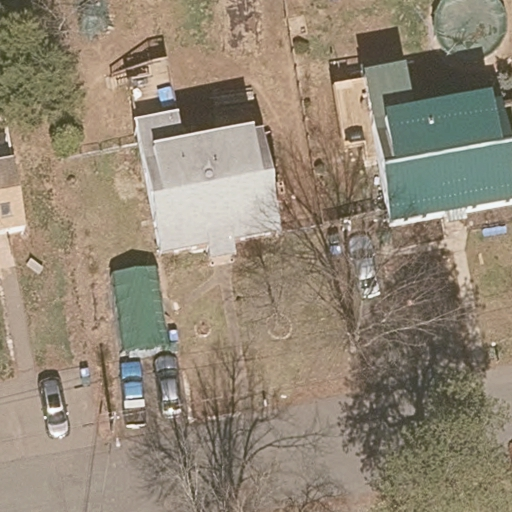DT: (105, 410, 122, 448)
